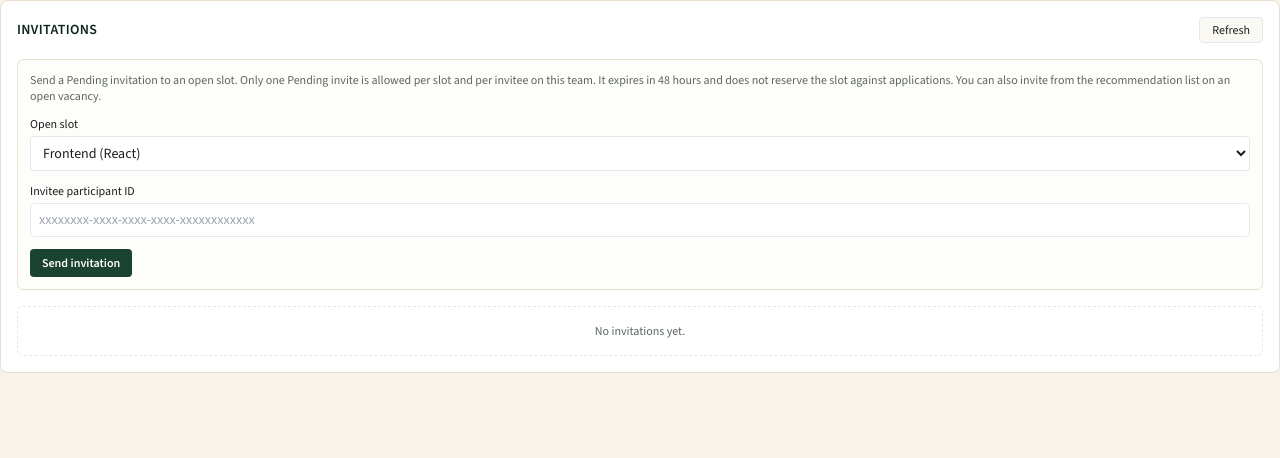
Scenario: OwnerInvitationsPanel (US-017 / #167 invite form + invitation view) › maps #163 eligibility field errors and keeps draft values
Expected: the button with test id "send-invitation" is shown, 30,249 -> 132,277
Type "22222222-2222-4222-8222-222222222222" into the field with test id "invite-participant-input".
click(640, 220); type("22222222-2222-4222-8222-222222222222")  # box 30,203 -> 1250,237
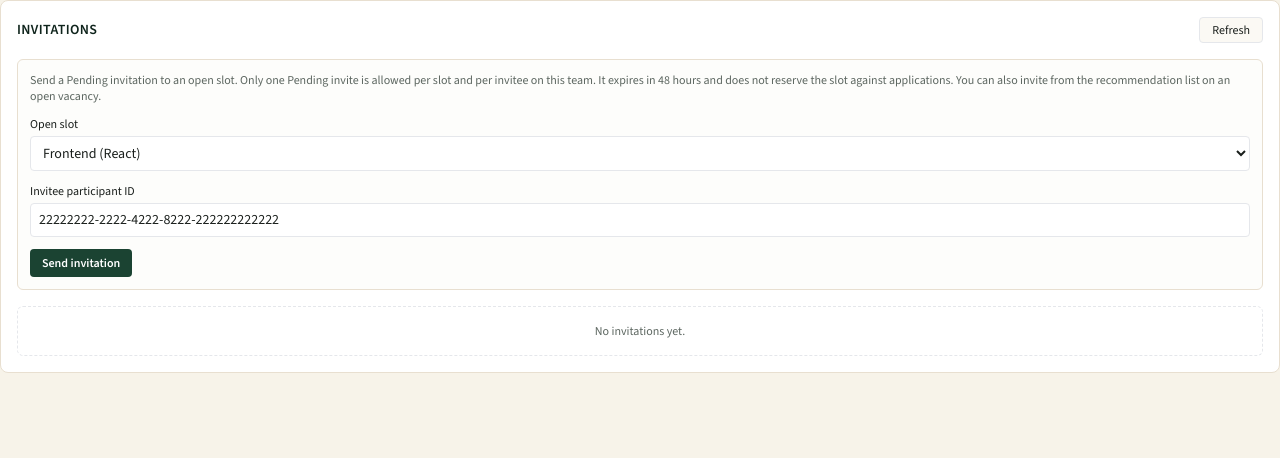
Click the button with test id "send-invitation".
click(81, 263)  # box 30,249 -> 132,277
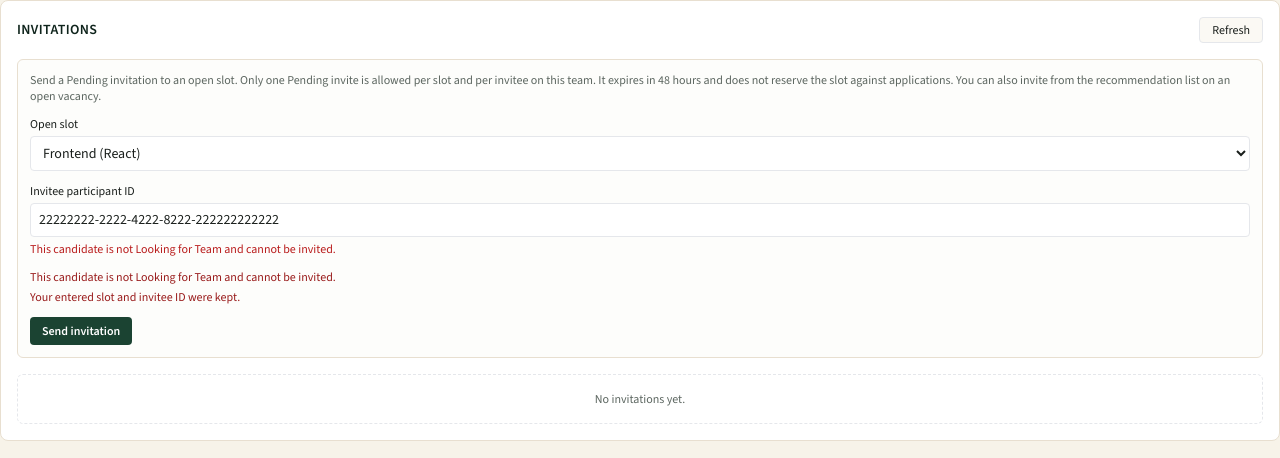
Expected: the message with test id "invite-form-error" shows "Looking for Team", 30,269 -> 336,285
